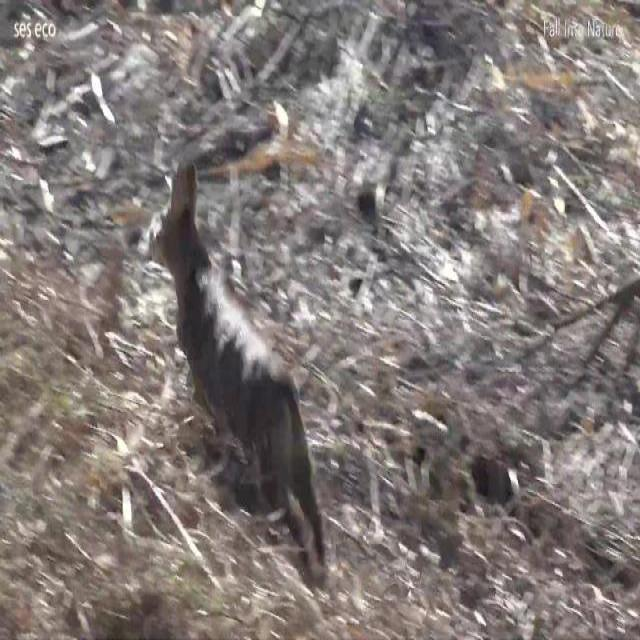deer: (147, 163, 329, 562)
